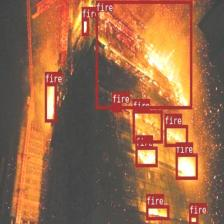fire: (95, 0, 192, 108), (133, 110, 162, 143), (176, 153, 198, 179), (164, 125, 188, 146), (44, 82, 56, 122), (135, 146, 157, 166), (146, 204, 169, 220), (81, 18, 89, 35), (188, 214, 198, 224), (112, 103, 121, 112)
